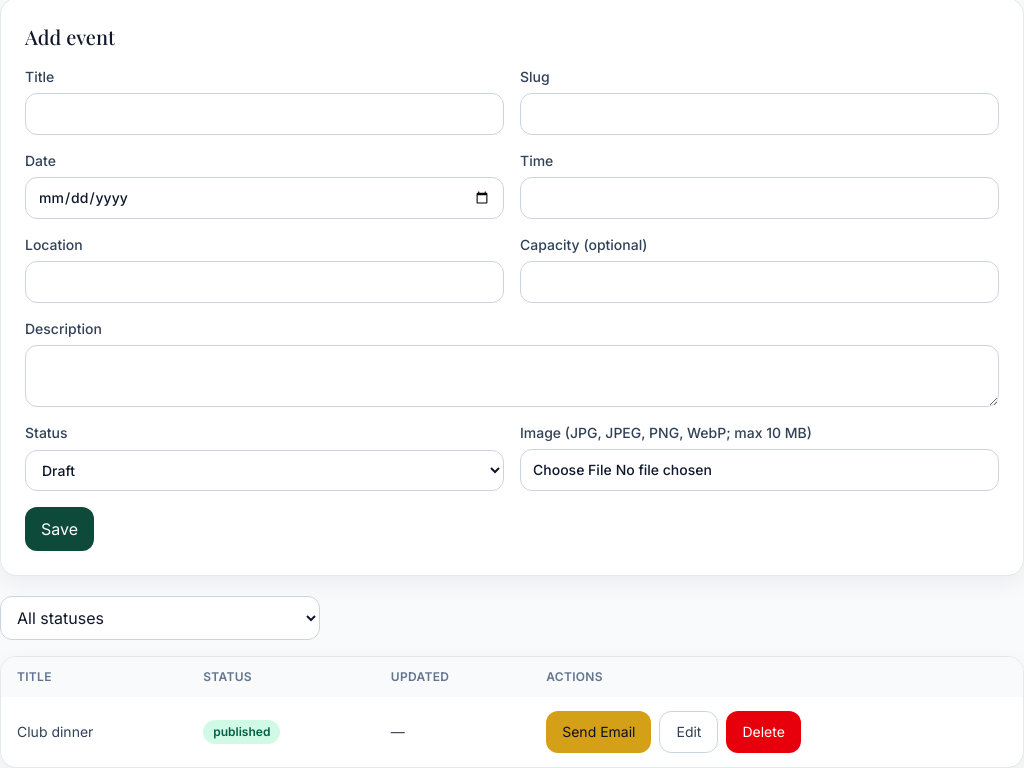
all operations routes render API records and visible errors › selects members and confirms the event preview before sending
(page scrolled)
Click the button "Send Email".
click(599, 732)  # box [546,711,652,753]
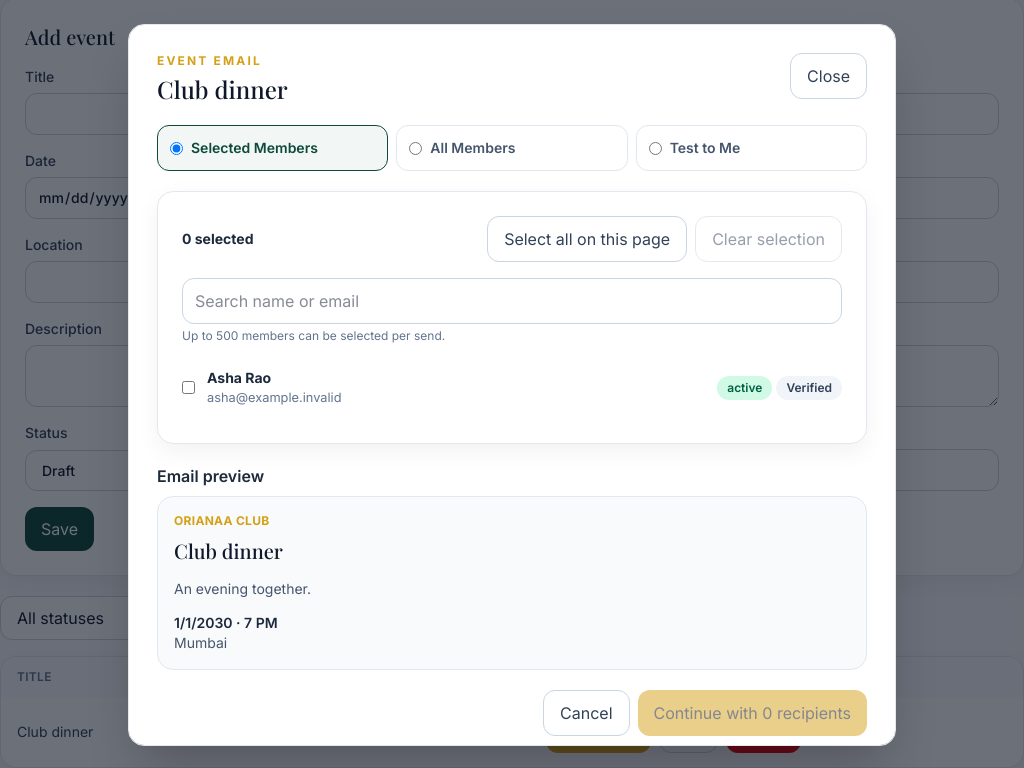
Click the checkbox.
click(188, 388)  # box [182,381,195,394]
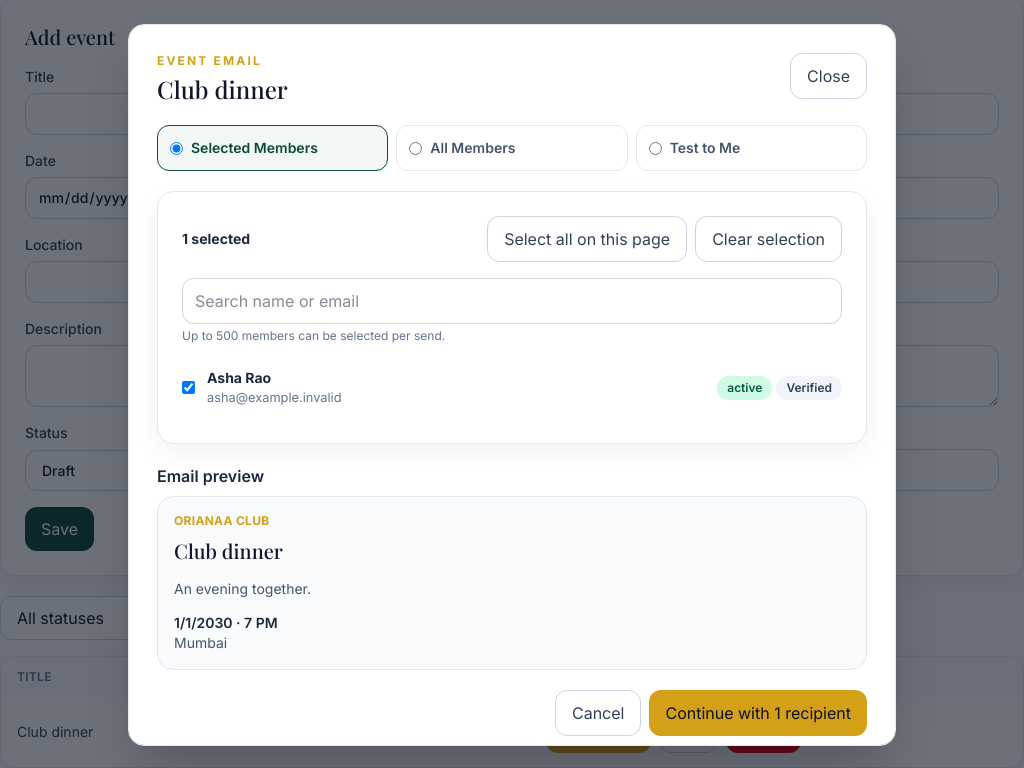
Check: the text "1 selected" is shown, box [182,229,250,249]
Click the button "Continue with 1 recipient".
click(758, 713)  # box [649,690,867,736]
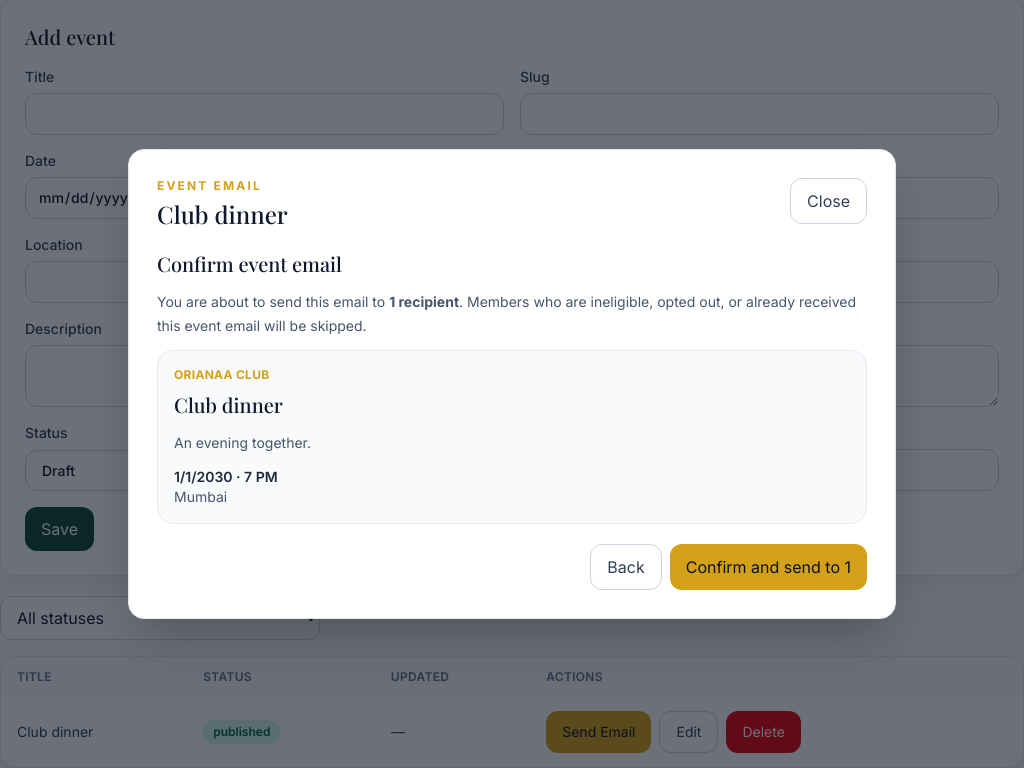
Check: the text "An evening together." is shown, box [174,434,311,451]
Check: the heading "Confirm event email" is shown, box [157,250,342,277]
Click the button "Confirm and send to 1".
click(768, 567)  # box [670,544,867,590]
(page scrolled)
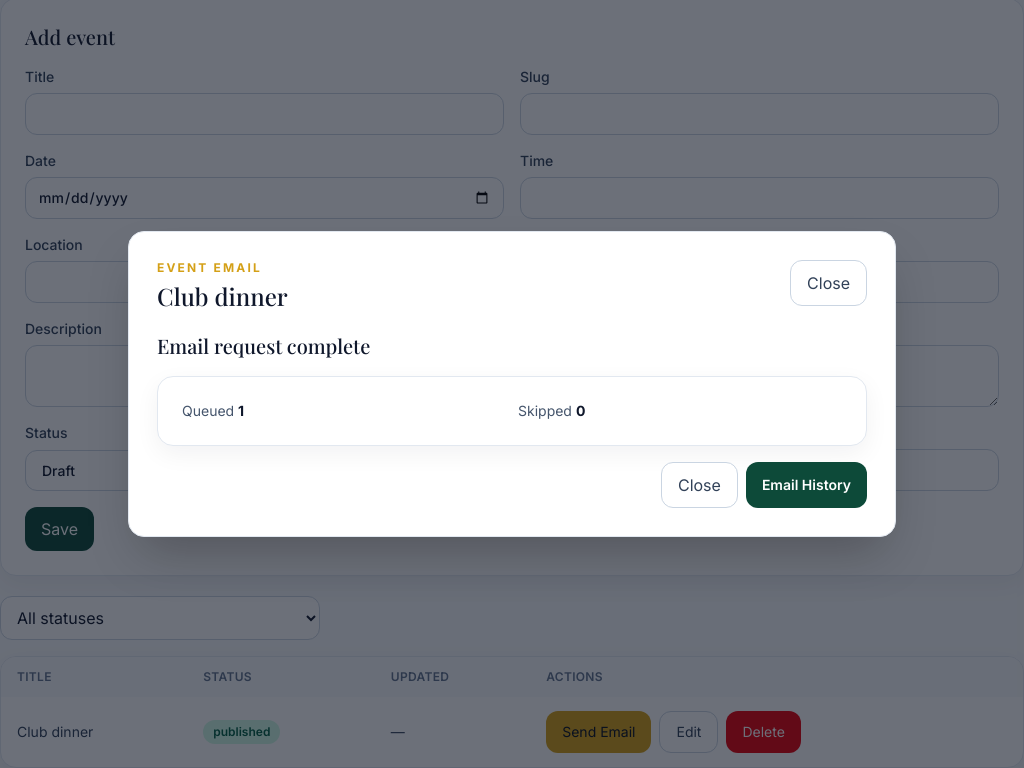
Check: the heading "Email request complete" is shown, box [157,332,370,359]
